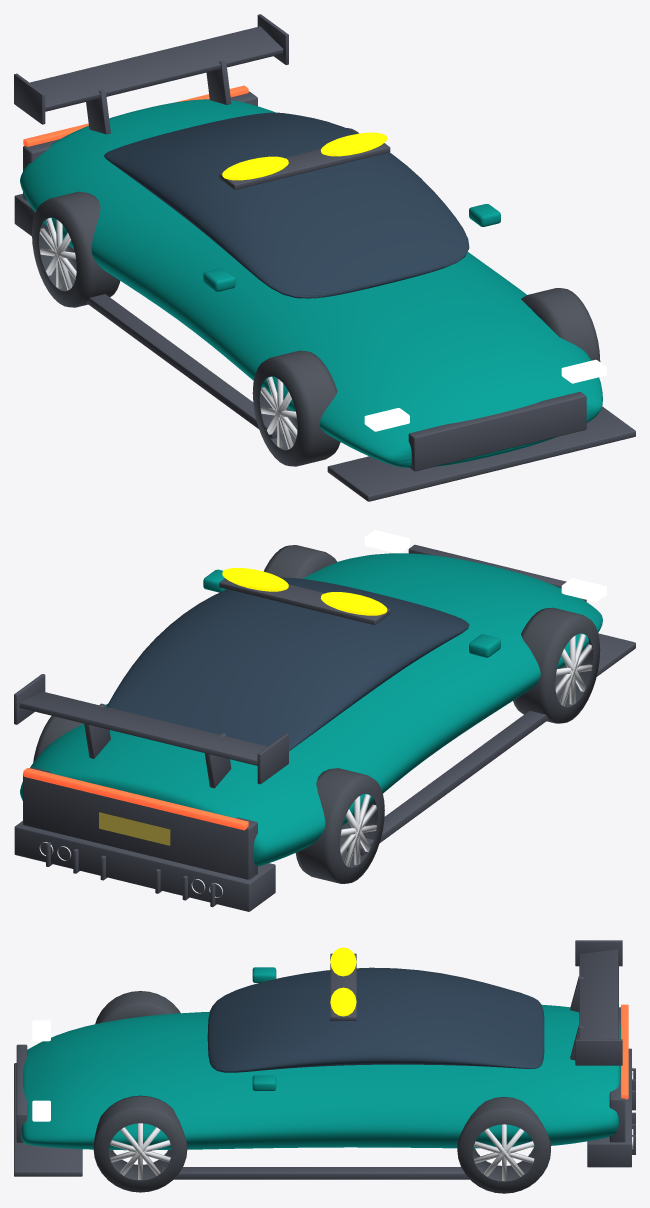
Rendered from gt_safety_car.glb.
3 views of the same model, one above another, from view 1: azimuth 30°, elevation 25°; view 2: azimuth 150°, elevation 25°; view 3: azimuth 270°, elevation 25° (orthographic). The views are drawn at different scales.
Parts seen in each view (by area): view 1: SC_Chassis, SC_Cabin, SC_GT_Wing, SC_Grille, SC_Splitter, SC_Tire_0, SC_Tire_2, SC_Skirt_-1, SC_Tire_1, scLightbar, SC_Light_Bridge, SC_Endplate_-1 (+6 smaller); view 2: SC_Chassis, SC_Cabin, SC_Rear_Fascia, SC_Diffuser, SC_Tire_0, SC_Tire_2, SC_GT_Wing, SC_Skirt_-1, SC_Tail_Blade, scLightbar, SC_Light_Bridge, SC_Tire_1 (+11 smaller); view 3: SC_Chassis, SC_Cabin, SC_Tire_1, SC_Tire_3, SC_Skirt_1, SC_GT_Wing, SC_Splitter, SC_Diffuser, SC_Tire_0, SC_Endplate_1, scLightbar, SC_Grille (+7 smaller).
Part boxes in pixels (box(x1,y1,x2,y2)): SC_Chassis: box(20, 99, 602, 467); SC_Cabin: box(104, 112, 469, 298); SC_GT_Wing: box(30, 26, 283, 111); SC_Grille: box(408, 392, 586, 471); SC_Splitter: box(327, 406, 635, 501); SC_Tire_0: box(252, 350, 340, 466); SC_Tire_2: box(32, 191, 120, 307); SC_Skirt_-1: box(86, 294, 284, 438); SC_Tire_1: box(521, 288, 600, 361); scLightbar: box(222, 132, 387, 180); SC_Light_Bridge: box(219, 143, 390, 189); SC_Endplate_-1: box(14, 73, 45, 124); SC_Chassis: box(20, 553, 602, 866); SC_Cabin: box(107, 577, 469, 750); SC_Rear_Fascia: box(23, 767, 257, 879); SC_Diffuser: box(14, 821, 275, 911); SC_Tire_0: box(513, 607, 600, 723); SC_Tire_2: box(295, 768, 384, 883); SC_GT_Wing: box(19, 691, 267, 765); SC_Skirt_-1: box(347, 711, 548, 855); SC_Tail_Blade: box(23, 768, 248, 830); scLightbar: box(222, 568, 387, 615); SC_Light_Bridge: box(219, 578, 390, 624); SC_Tire_1: box(263, 545, 336, 578); SC_Chassis: box(21, 1004, 620, 1150); SC_Cabin: box(207, 967, 544, 1072); SC_Tire_1: box(93, 1095, 187, 1192); SC_Tire_3: box(457, 1097, 550, 1193); SC_Skirt_1: box(161, 1167, 483, 1179); SC_GT_Wing: box(579, 949, 618, 1039); SC_Splitter: box(14, 1063, 82, 1176); SC_Diffuser: box(587, 1048, 631, 1167); SC_Tire_0: box(95, 991, 180, 1024); SC_Endplate_1: box(575, 1039, 622, 1065); scLightbar: box(330, 947, 356, 1016); SC_Grille: box(16, 1044, 27, 1142).
Size of the model in its own units: 2.2 by 1.32 by 4.72.
